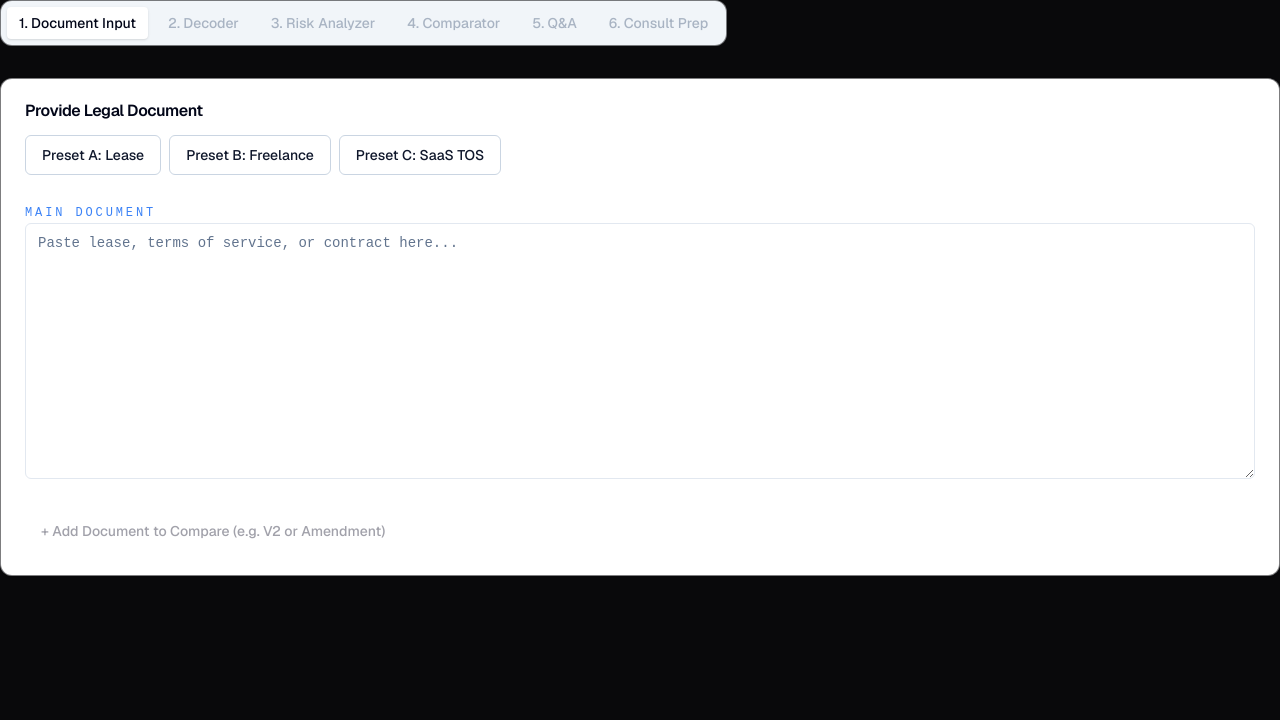
Test: DashboardView UI › handles tab switching and preset loading
This screenshot has width=1280, height=720.
Expected: the heading "Provide Legal Document" is shown, [25, 100, 203, 121]
Note: Load a preset
Click the button "Preset A: Lease". click: (93, 155)
box: [25, 135, 161, 175]
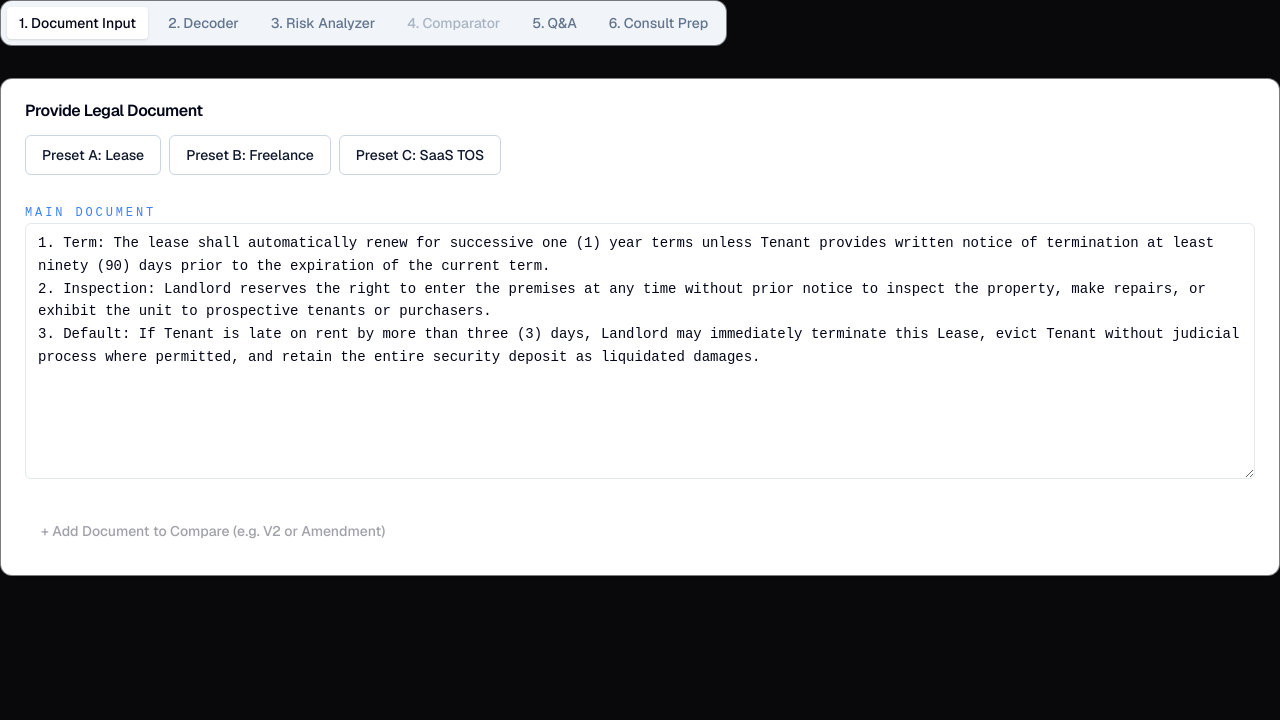
Click the tab "3. Risk Analyzer". click: (323, 23)
box: [259, 7, 387, 39]
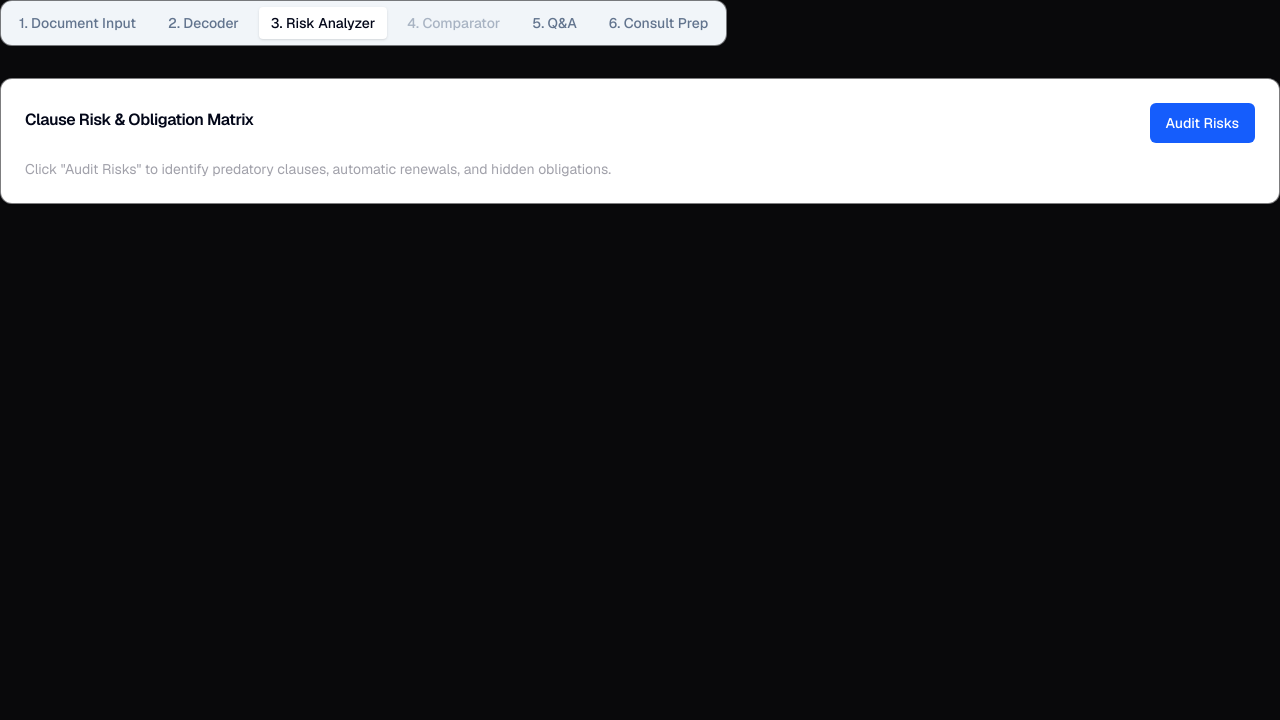
Expected: the heading "Clause Risk & Obligation Matrix" is shown, [25, 112, 254, 128]
